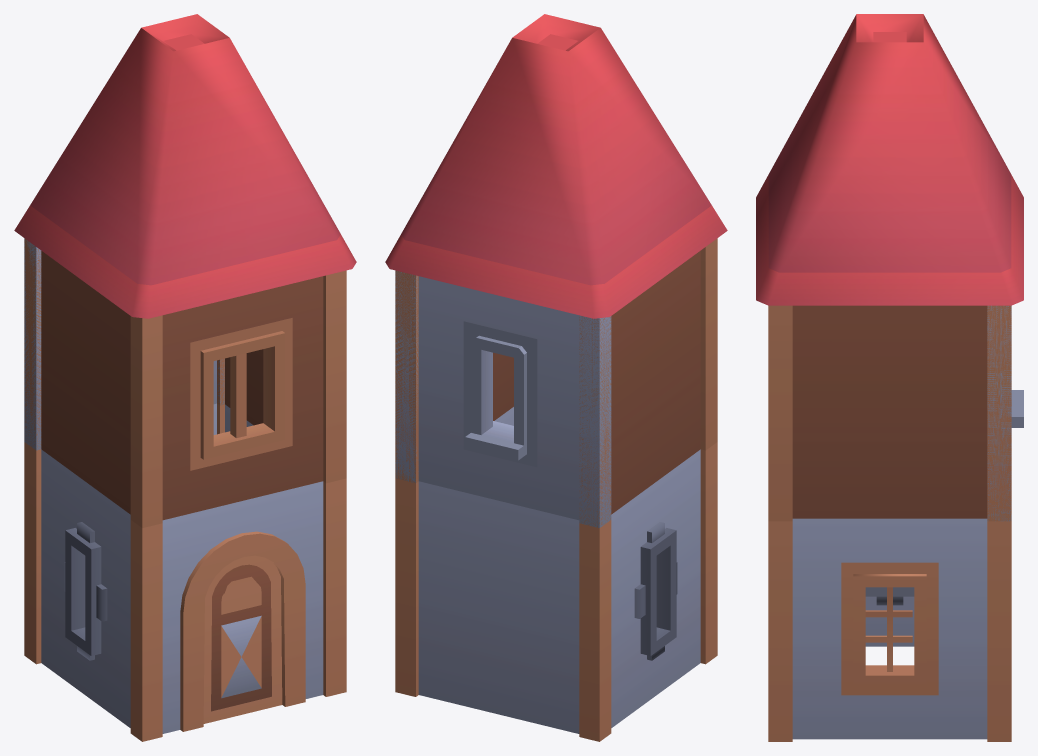
File: human_b.glb
The picture shows the model from 3 angles, left to right: view 1: azimuth 30°, elevation 25°; view 2: azimuth 150°, elevation 25°; view 3: azimuth 270°, elevation 25°; orthographic projection. The views are drawn at different scales.
Visible parts, largest first — view 1: wall-door; view 2: wall-door; view 3: wall-door.
Part boxes in pixels (x1=…): wall-door: x1=14, y1=14, x2=356, y2=741; wall-door: x1=385, y1=14, x2=727, y2=741; wall-door: x1=756, y1=14, x2=1023, y2=741.
Bounding box in the file's own units: 1.1 × 3 × 1.1.
Materials: 1 (1 with a texture image).
